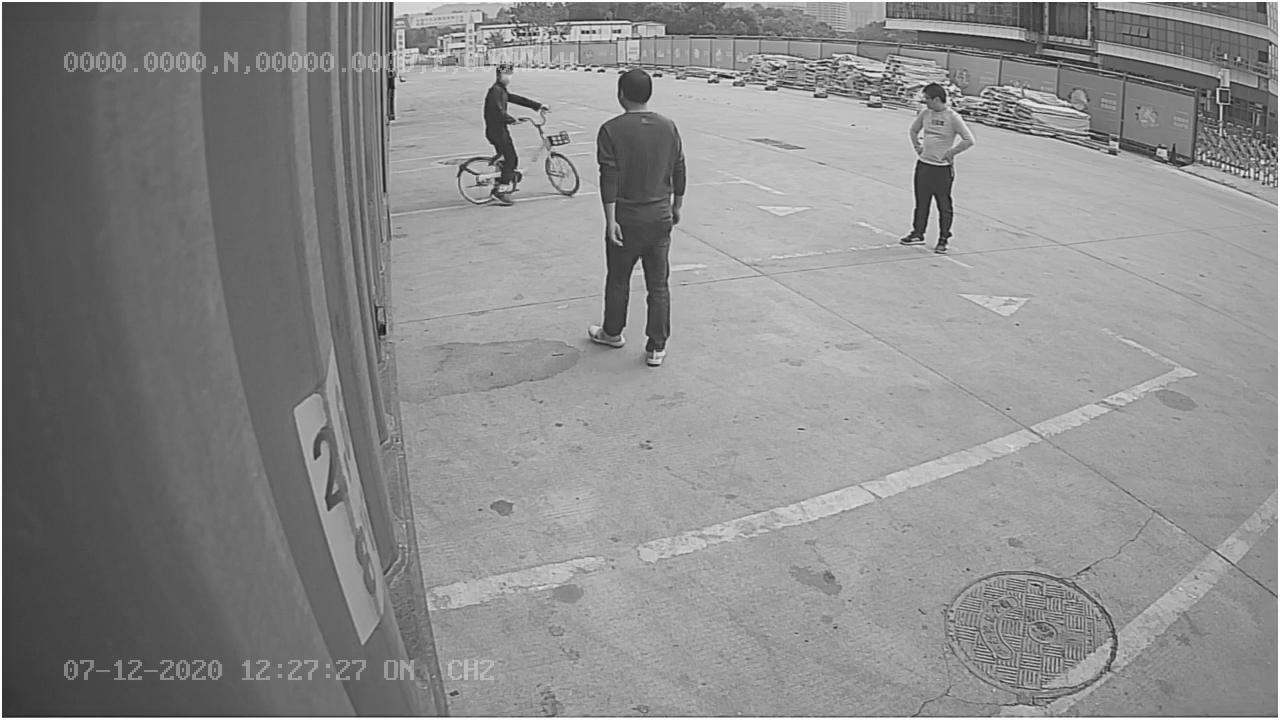person: (579, 65, 692, 371)
